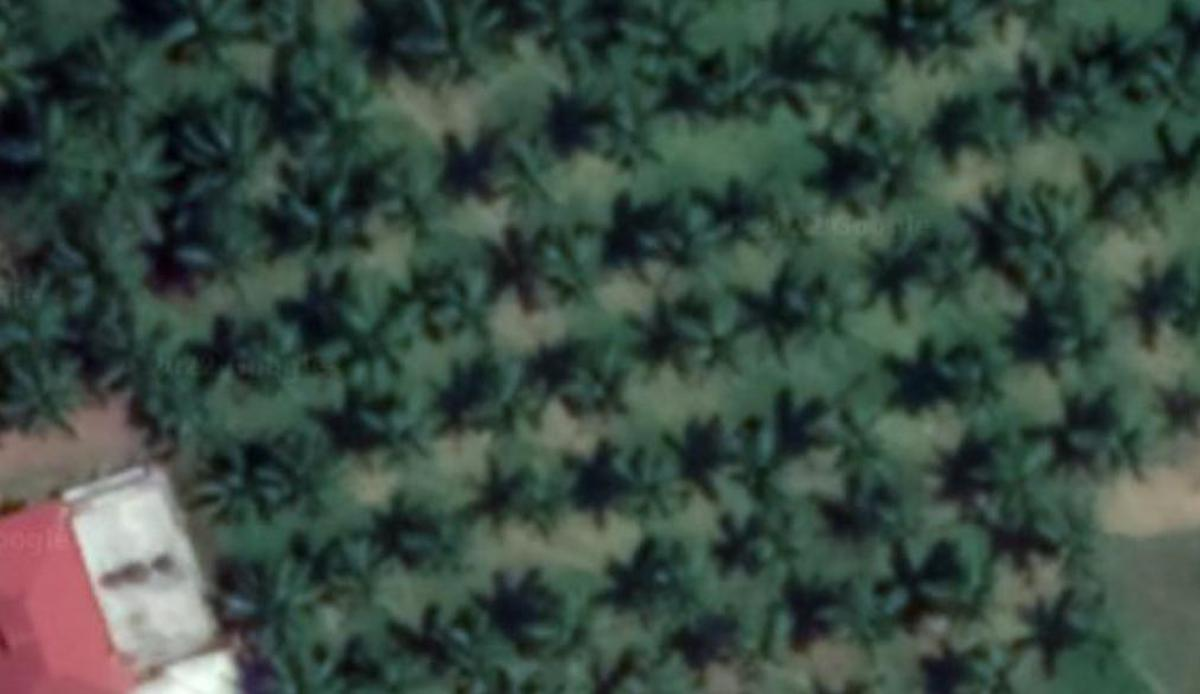coconut: (214, 564, 334, 667), (781, 264, 892, 365), (97, 121, 187, 243), (992, 187, 1093, 294), (288, 66, 390, 167), (72, 28, 177, 124), (316, 277, 423, 371), (396, 0, 514, 85), (169, 107, 279, 198), (514, 0, 622, 86), (809, 40, 905, 136), (624, 180, 731, 265), (176, 204, 271, 298), (7, 110, 97, 209), (614, 1, 726, 80), (226, 316, 330, 400), (85, 298, 174, 395), (2, 268, 101, 355), (671, 294, 769, 381), (844, 125, 937, 215), (187, 440, 284, 526), (973, 430, 1060, 525), (436, 612, 543, 689), (482, 131, 583, 211), (585, 102, 693, 176), (818, 577, 914, 657), (458, 365, 560, 440), (350, 385, 443, 465), (271, 181, 368, 257), (565, 347, 659, 425), (520, 593, 615, 670), (168, 4, 262, 81), (738, 498, 828, 578), (0, 359, 92, 436), (532, 232, 614, 314), (1080, 396, 1164, 476), (905, 220, 988, 300), (1050, 577, 1126, 663), (367, 144, 452, 220), (629, 546, 707, 628), (311, 543, 407, 609), (928, 334, 1007, 414), (755, 176, 834, 256), (263, 434, 343, 512), (1041, 289, 1114, 373), (1055, 64, 1132, 143), (609, 451, 688, 525), (436, 271, 511, 344), (902, 0, 983, 66), (1140, 51, 1200, 137), (506, 469, 578, 532), (827, 415, 900, 476), (1045, 487, 1105, 555), (966, 94, 1029, 147), (397, 531, 481, 570)
